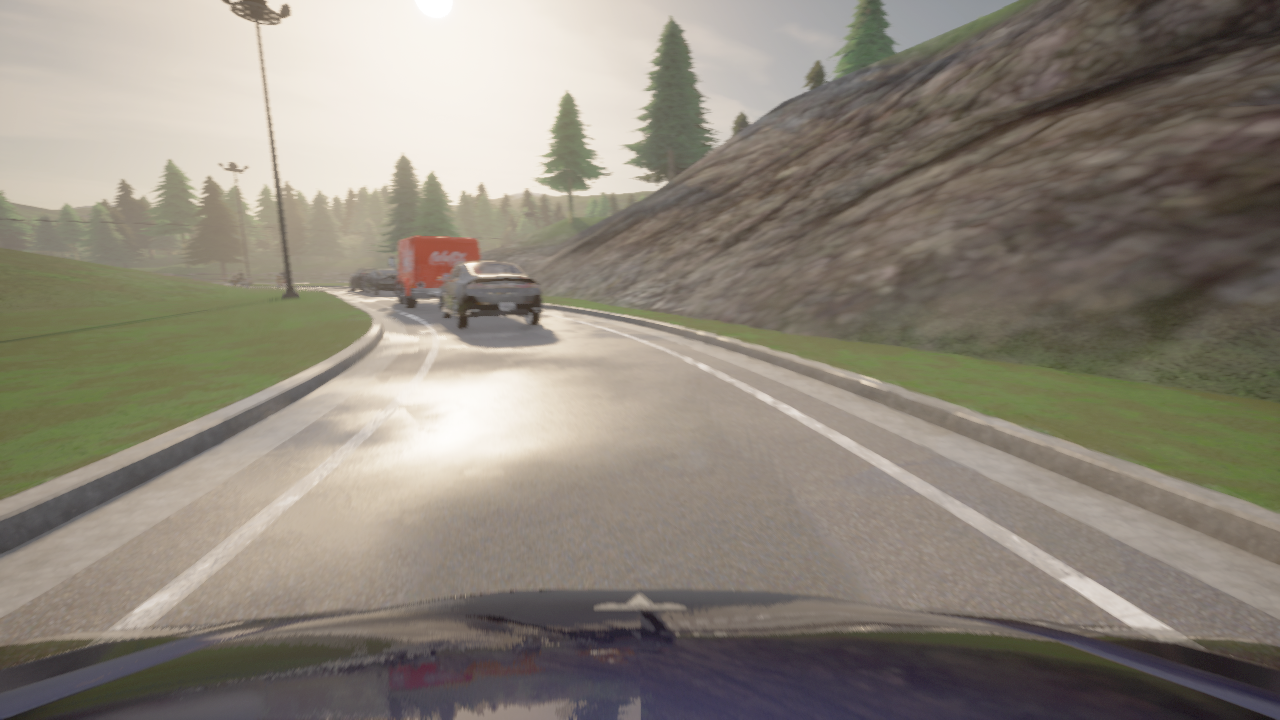cyclist: (0, 588, 1279, 719), (436, 261, 541, 328), (388, 236, 479, 308), (362, 268, 398, 294), (348, 268, 377, 291), (229, 274, 250, 286), (276, 275, 286, 287)
